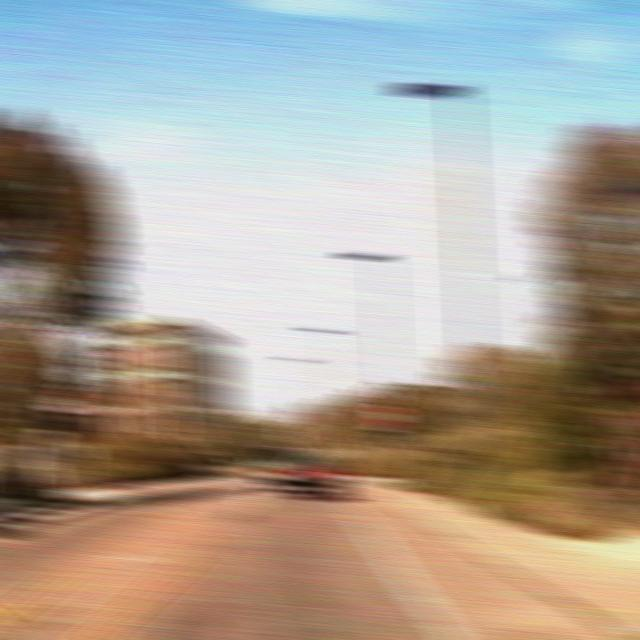stop_sign: (372, 404, 404, 428)
